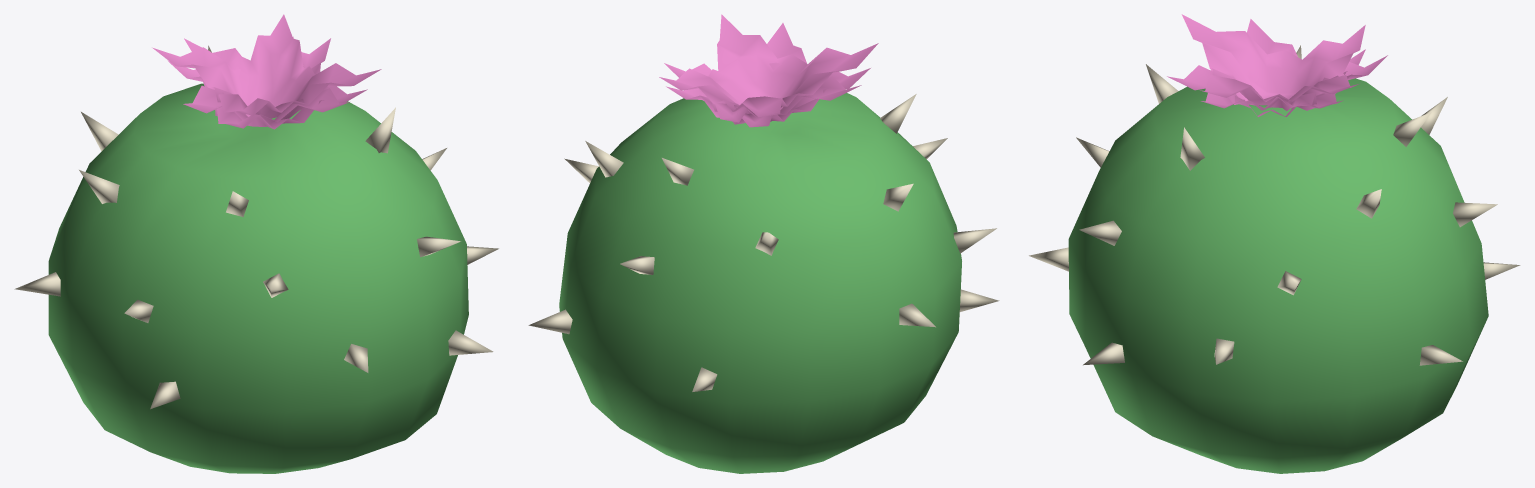
File: Cactus02.fbx
3 renders of one model, left to right at view 1: azimuth 30°, elevation 25°; view 2: azimuth 150°, elevation 25°; view 3: azimuth 270°, elevation 25°, orthographic. The views are drawn at different scales.
Visible parts, largest first — view 1: Plane.002; view 2: Plane.002; view 3: Plane.002.
Boxes of the visible parts, <box> form: Plane.002: <box>14,14,498,473</box>; Plane.002: <box>528,14,999,473</box>; Plane.002: <box>1029,14,1520,473</box>.
Bounding box in the file's own units: 115 × 99.44 × 117.
